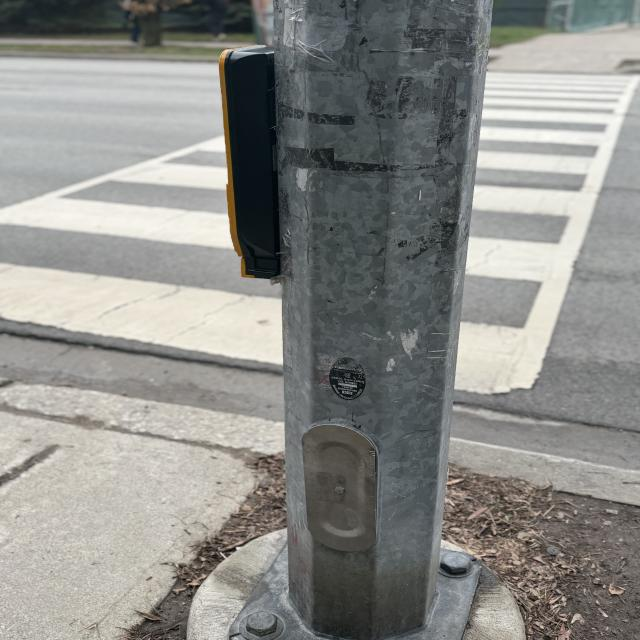Electrical Pole: (208, 2, 503, 640)
